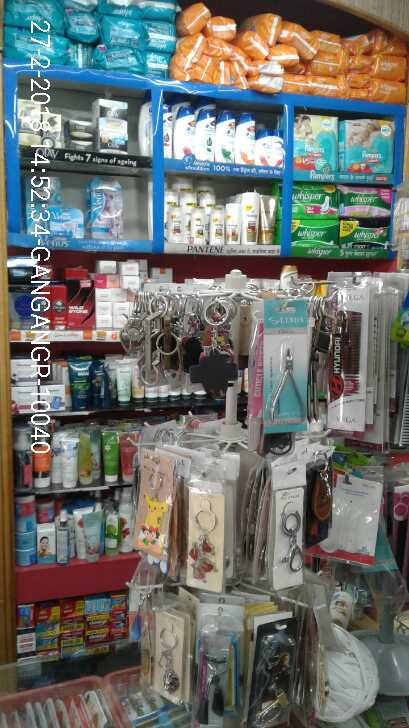venus: (90, 178, 123, 237), (29, 177, 48, 235), (51, 208, 84, 235)
